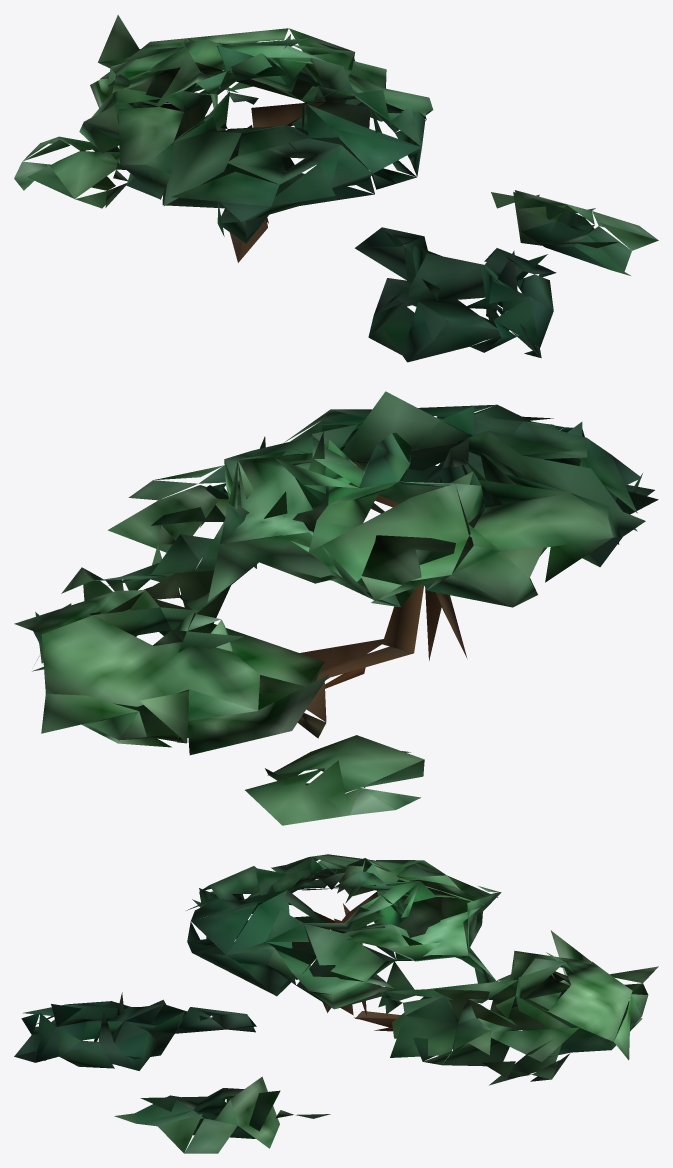
File: shrub.glb
3 renders of one model, top to bottom at view 1: azimuth 30°, elevation 25°; view 2: azimuth 150°, elevation 25°; view 3: azimuth 270°, elevation 25°, orthographic. The views are drawn at different scales.
Parts seen in each view (by area): view 1: Low ground shrub derived from Studio canopy; view 2: Low ground shrub derived from Studio canopy; view 3: Low ground shrub derived from Studio canopy.
Boxes of the visible parts, <box> form: Low ground shrub derived from Studio canopy: <box>14,15,658,362</box>; Low ground shrub derived from Studio canopy: <box>14,391,658,825</box>; Low ground shrub derived from Studio canopy: <box>14,854,658,1153</box>.
Size of the model in its own units: 2.54 by 1 by 3.63.
Materials: 1 (1 with a texture image).
